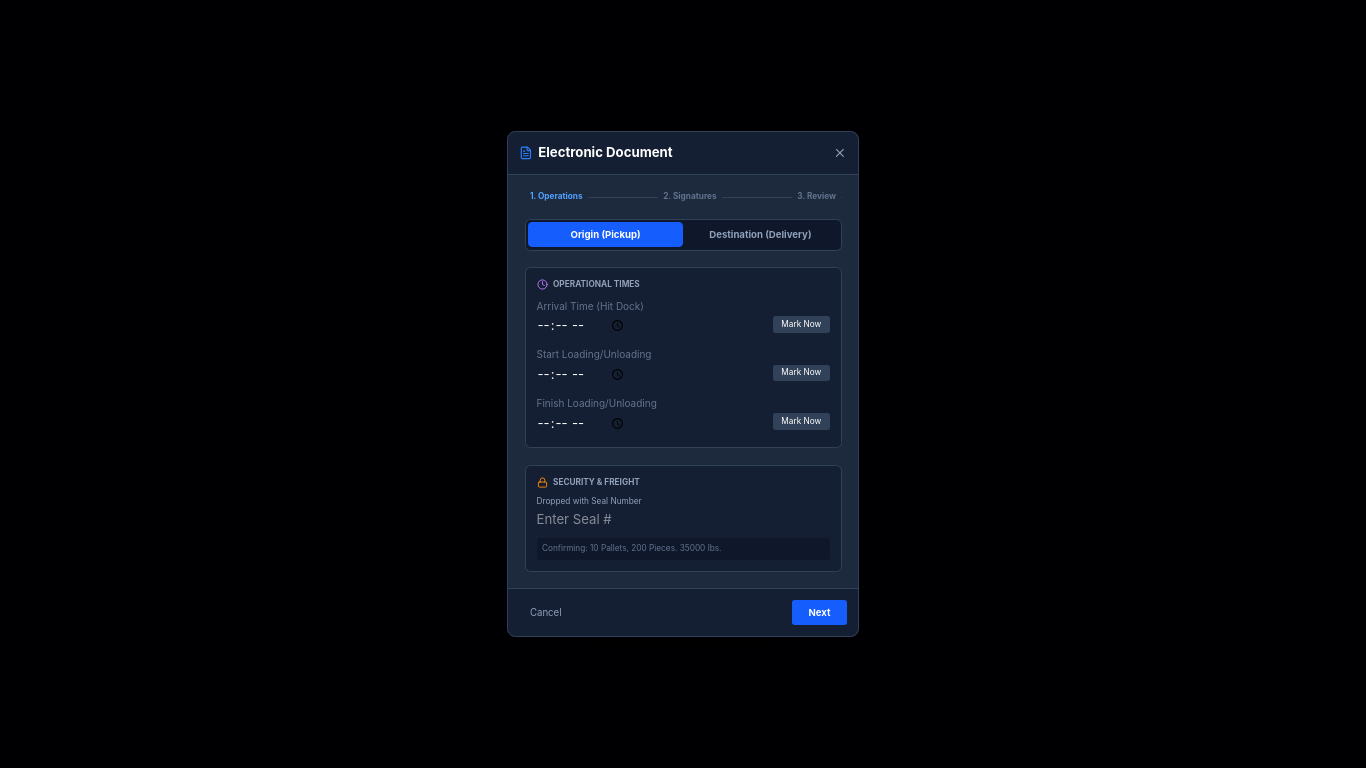
it: BolGenerator › navigates to step 3 when Next is clicked twice
Step 1. Click the button "Next" → point(819, 613), box [792, 600, 847, 625]
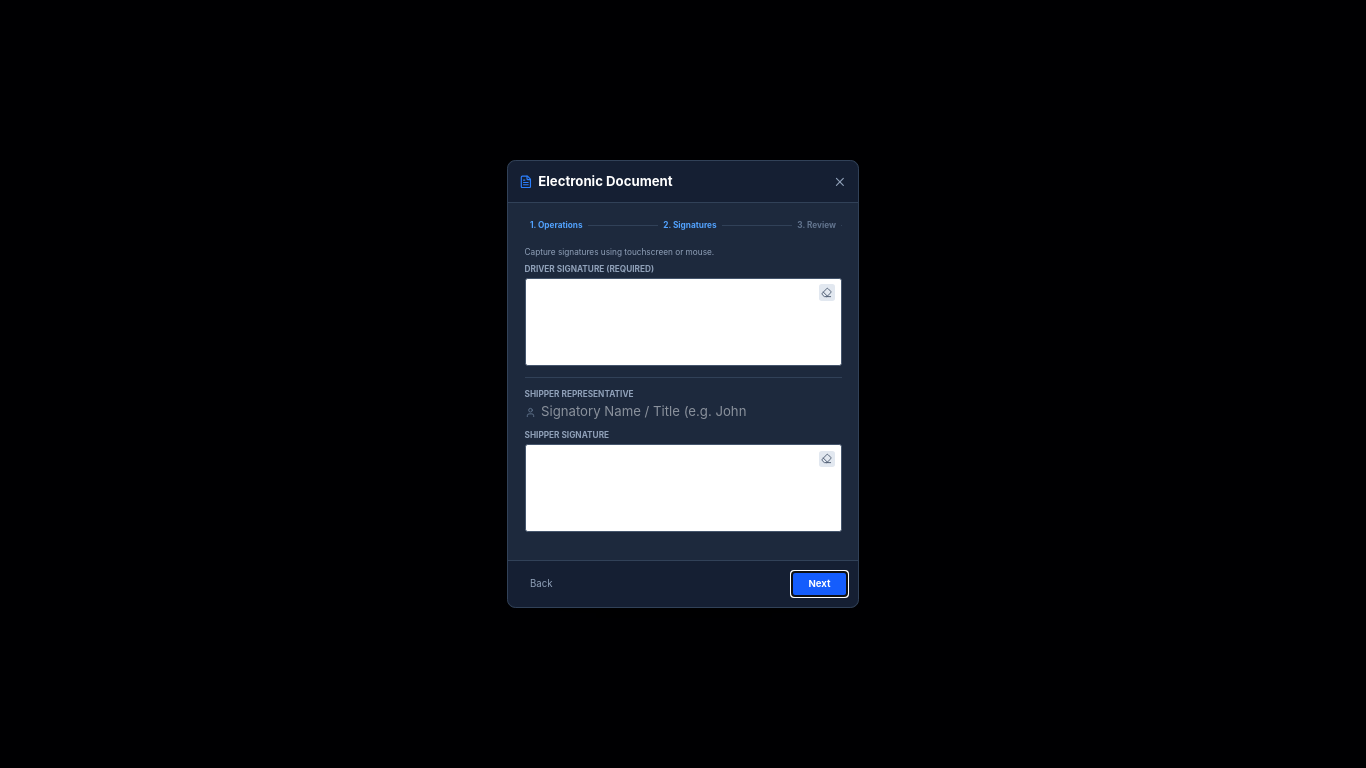
Step 2. Click the button "Next" → point(819, 584), box [792, 572, 847, 596]
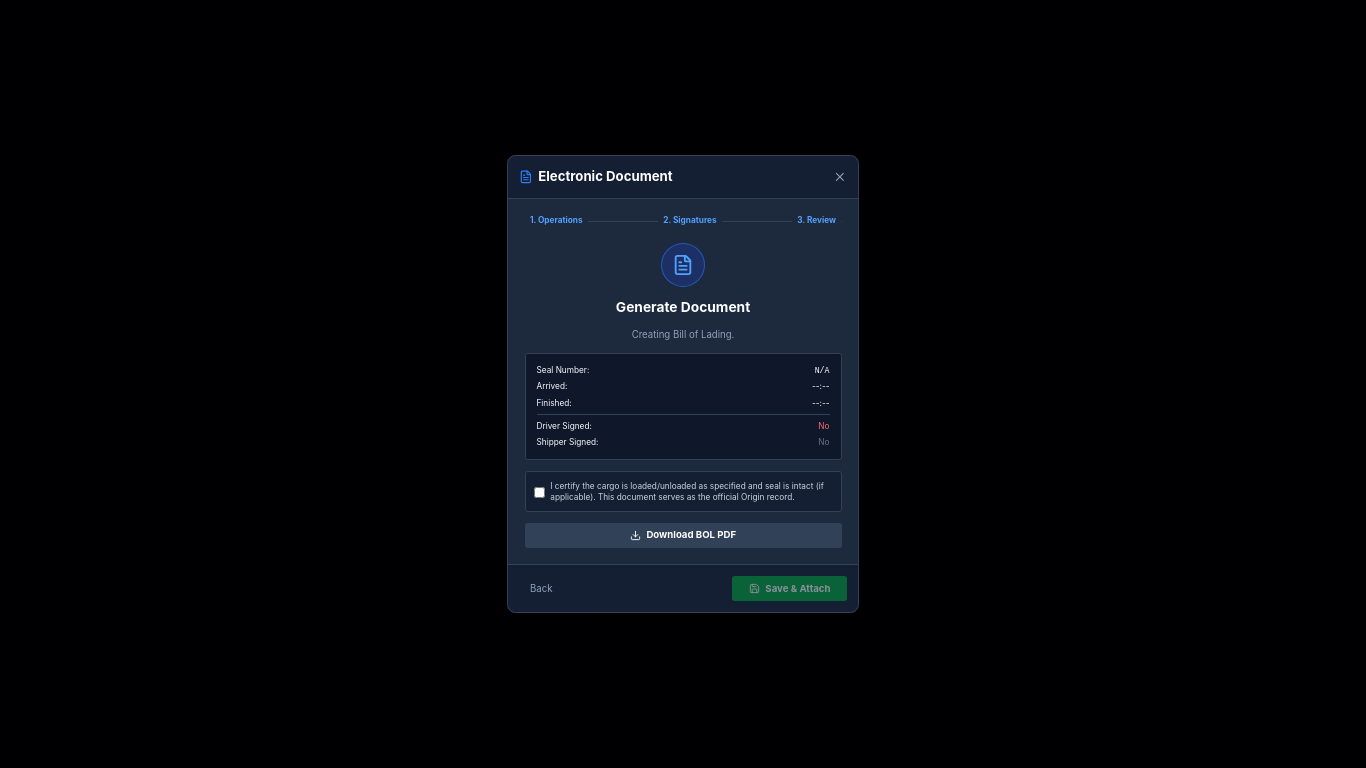
Expected: the heading "Generate Document" is shown, [616, 299, 750, 315]
Expected: the text "Creating Bill of Lading." is shown, [632, 329, 734, 340]
